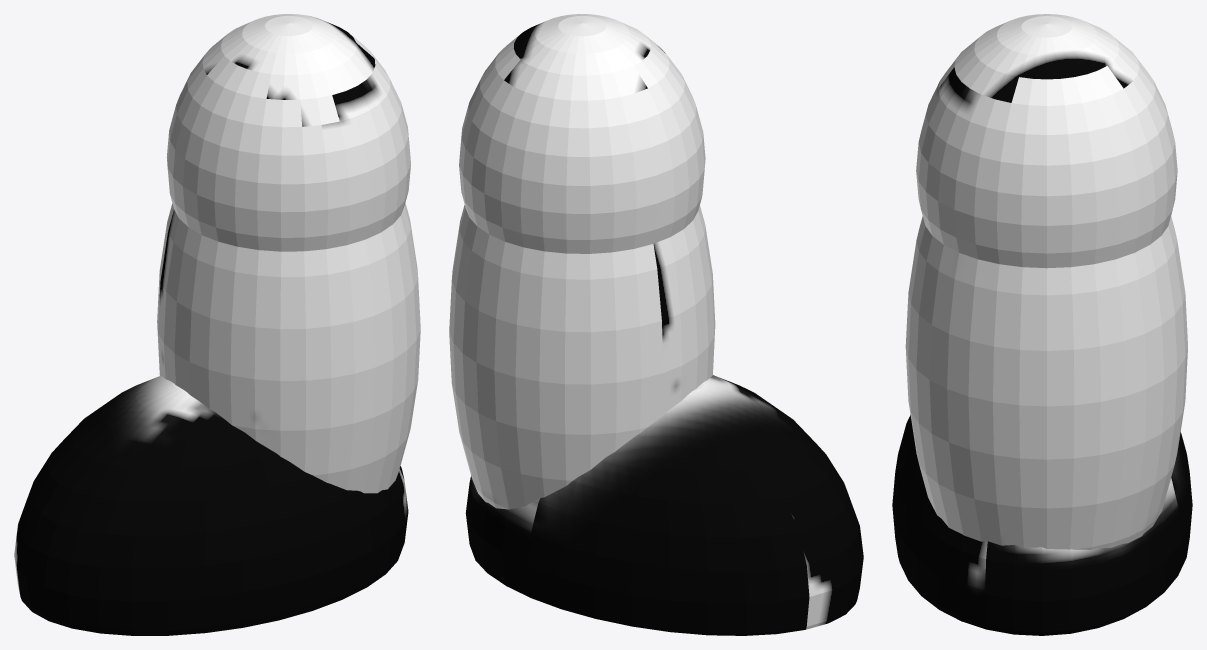
File: PieDer_Bulls.obj
The picture shows the model from 3 angles, left to right: view 1: azimuth 30°, elevation 25°; view 2: azimuth 150°, elevation 25°; view 3: azimuth 270°, elevation 25°; orthographic projection. The views are drawn at different scales.
Parts seen in each view (by area): view 1: PieDer_Bulls; view 2: PieDer_Bulls; view 3: PieDer_Bulls.
Part boxes in pixels (box(x1,y1,x2,y2)): PieDer_Bulls: box(14, 14, 420, 635); PieDer_Bulls: box(449, 14, 863, 635); PieDer_Bulls: box(892, 14, 1192, 635).
Bounding box in the file's own units: 1.61 × 2.15 × 1.04.
Materials: 1 (1 with a texture image).
